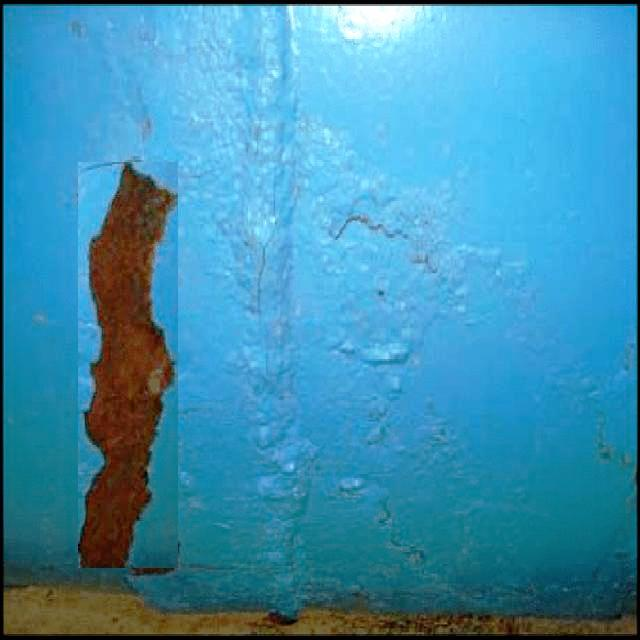Corrosion: (78, 163, 176, 569)
